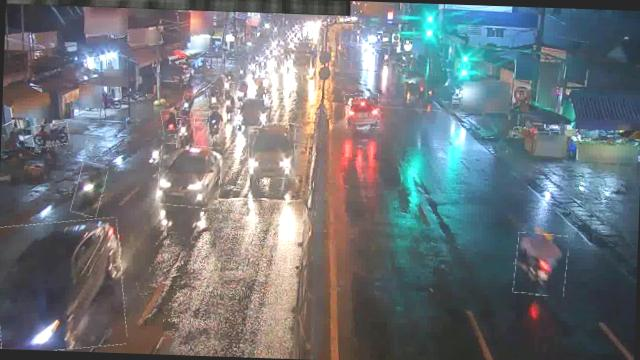Bike: (514, 233, 568, 297), (72, 162, 106, 218), (31, 122, 70, 147), (176, 118, 196, 148), (162, 109, 178, 136), (180, 94, 194, 118), (208, 112, 220, 139), (224, 89, 235, 113), (236, 80, 248, 102), (207, 86, 220, 106)
Car: (0, 217, 127, 352), (158, 143, 222, 208), (248, 122, 296, 179), (344, 93, 380, 130), (235, 98, 270, 129)
